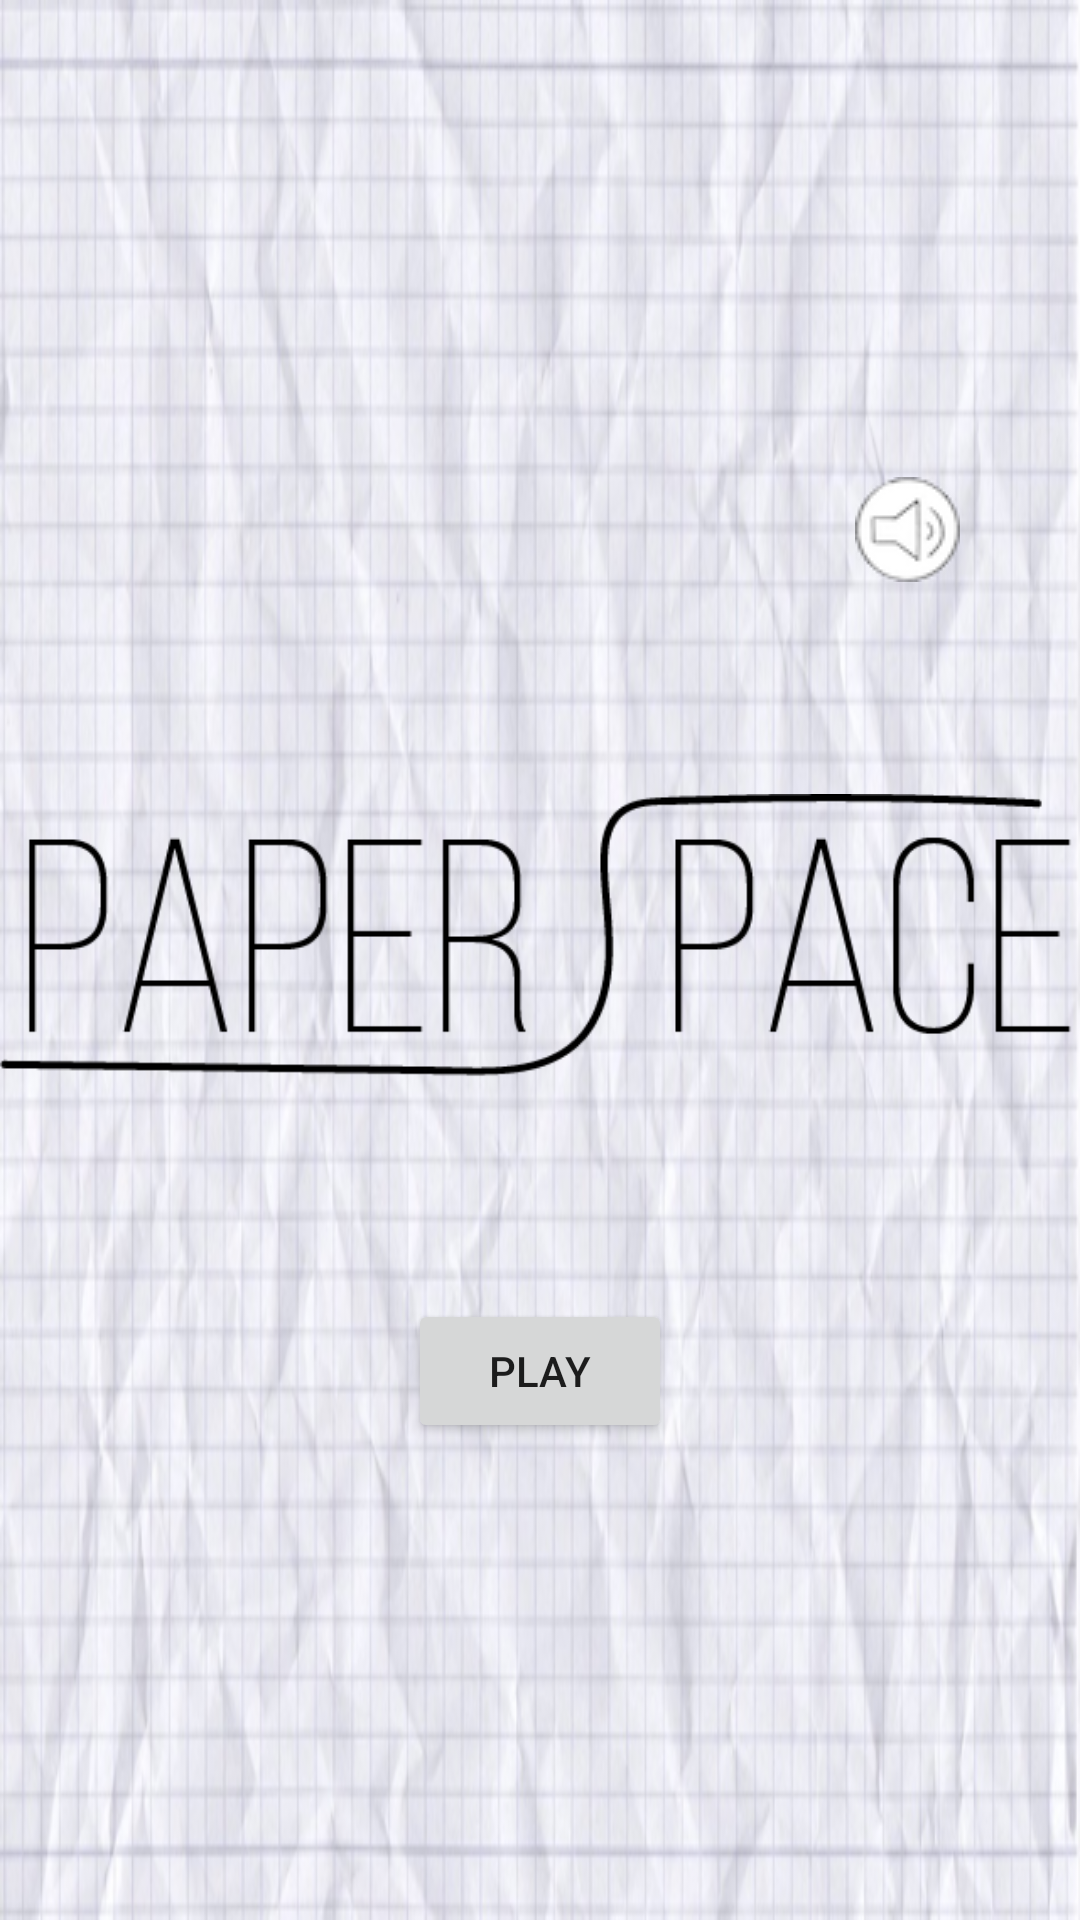

Where to tap for icons on this 1080x1920 app screen, as (x,y):
ton an: (907,529)
